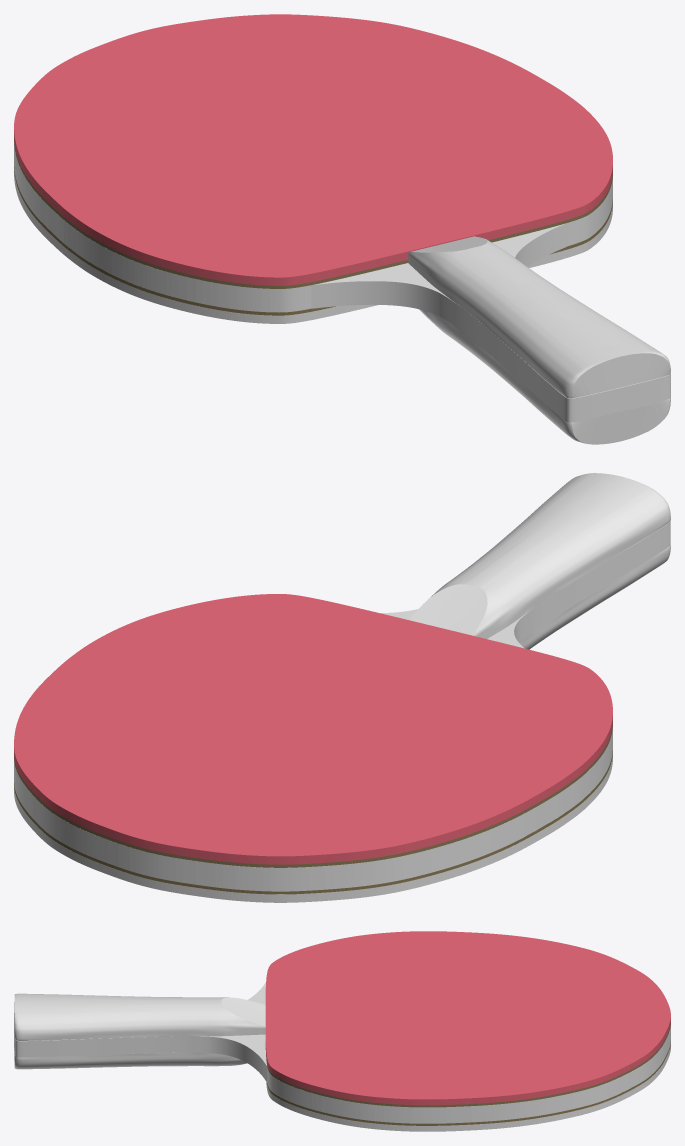
The model's file is Paddle.fbx.
The picture shows the model from 3 angles, top to bottom: view 1: azimuth 30°, elevation 25°; view 2: azimuth 150°, elevation 25°; view 3: azimuth 270°, elevation 25°; orthographic projection. The views are drawn at different scales.
Visible parts, largest first — view 1: head-layer red2.000, handle1.001, handle.001, head-wood.000, handle1.000, head-layer red2.001, head-layer red2.002, head-layer red2.003; view 2: head-layer red2.000, handle1.001, head-wood.000, head-layer red2.001, handle.001, head-layer red2.002, head-layer red2.003, handle1.000; view 3: head-layer red2.000, handle1.001, head-wood.000, handle.001, handle1.000, head-layer red2.001, head-layer red2.002, head-layer red2.003.
Boxes of the visible parts, x1,y1,x2,y2 form: head-layer red2.000: (14, 14, 612, 285); handle1.001: (408, 236, 670, 398); handle.001: (311, 223, 670, 422); head-wood.000: (14, 142, 612, 312); handle1.000: (419, 309, 670, 444); head-layer red2.001: (14, 169, 612, 323); head-layer red2.002: (14, 139, 612, 288); head-layer red2.003: (14, 167, 612, 315); head-layer red2.000: (14, 594, 612, 864); handle1.001: (409, 473, 670, 638); head-wood.000: (14, 727, 612, 891); head-layer red2.001: (14, 754, 612, 902); handle.001: (381, 521, 670, 648); head-layer red2.002: (14, 724, 612, 867); head-layer red2.003: (14, 750, 612, 894); handle1.000: (520, 545, 670, 649); head-layer red2.000: (265, 931, 670, 1105); handle1.001: (14, 993, 265, 1040); head-wood.000: (267, 1026, 670, 1123); handle.001: (14, 982, 267, 1082); handle1.000: (14, 1048, 246, 1069); head-layer red2.001: (266, 1044, 670, 1131); head-layer red2.002: (265, 1023, 670, 1107); head-layer red2.003: (267, 1042, 670, 1125).
Size of the model in its own units: 15.37 by 2.52 by 25.41.
